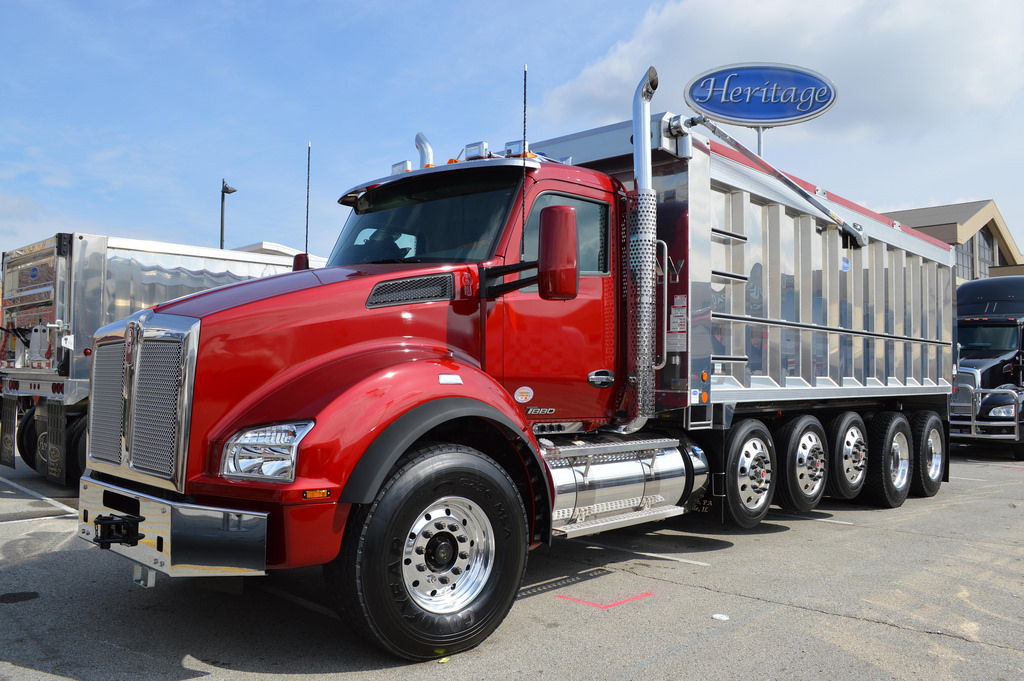truck: (74, 100, 961, 654)
